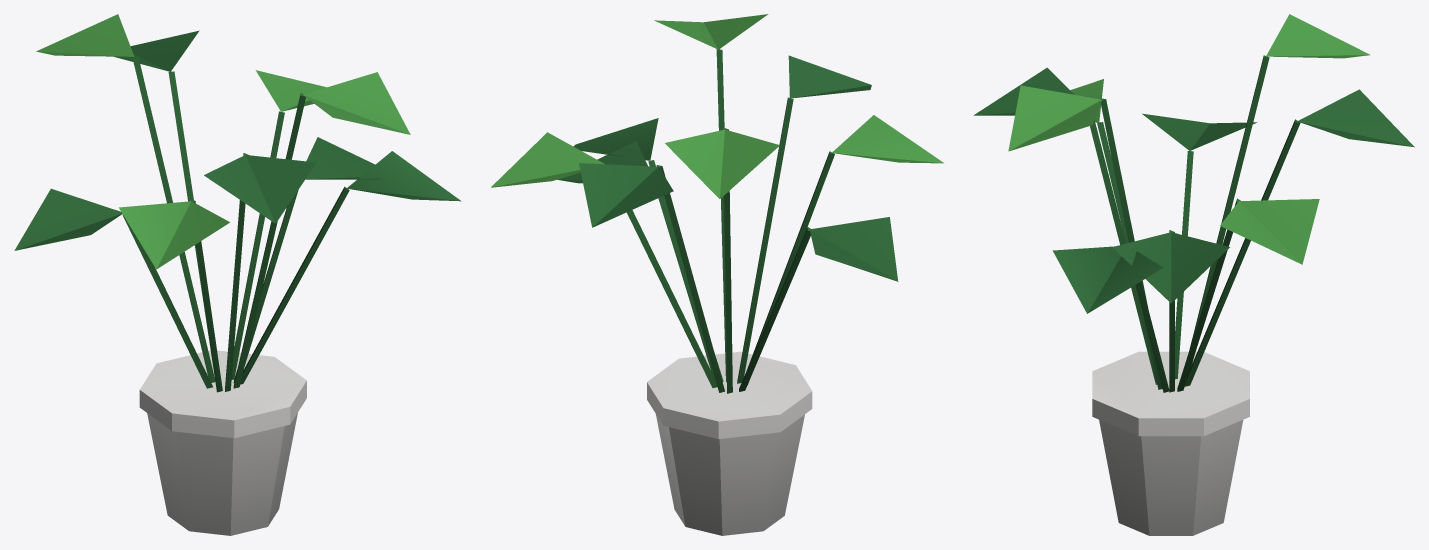
File: plant_monstera_01.glb
3 views of the same model, side by side, from view 1: azimuth 30°, elevation 25°; view 2: azimuth 150°, elevation 25°; view 3: azimuth 270°, elevation 25° (orthographic). The views are drawn at different scales.
Parts seen in each view (by area): view 1: plant_monstera_01_mesh; view 2: plant_monstera_01_mesh; view 3: plant_monstera_01_mesh.
Part boxes in pixels (x1,y1,x2,y2): plant_monstera_01_mesh: (14, 14, 461, 535); plant_monstera_01_mesh: (491, 14, 943, 535); plant_monstera_01_mesh: (973, 14, 1414, 535).
Size of the model in its own units: 1.14 by 1.25 by 1.12.
Materials: 1 (1 with a texture image).
